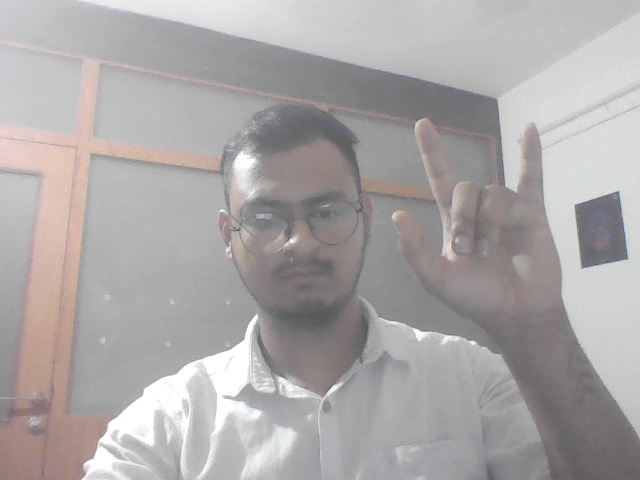I Love You: (377, 112, 625, 353)
